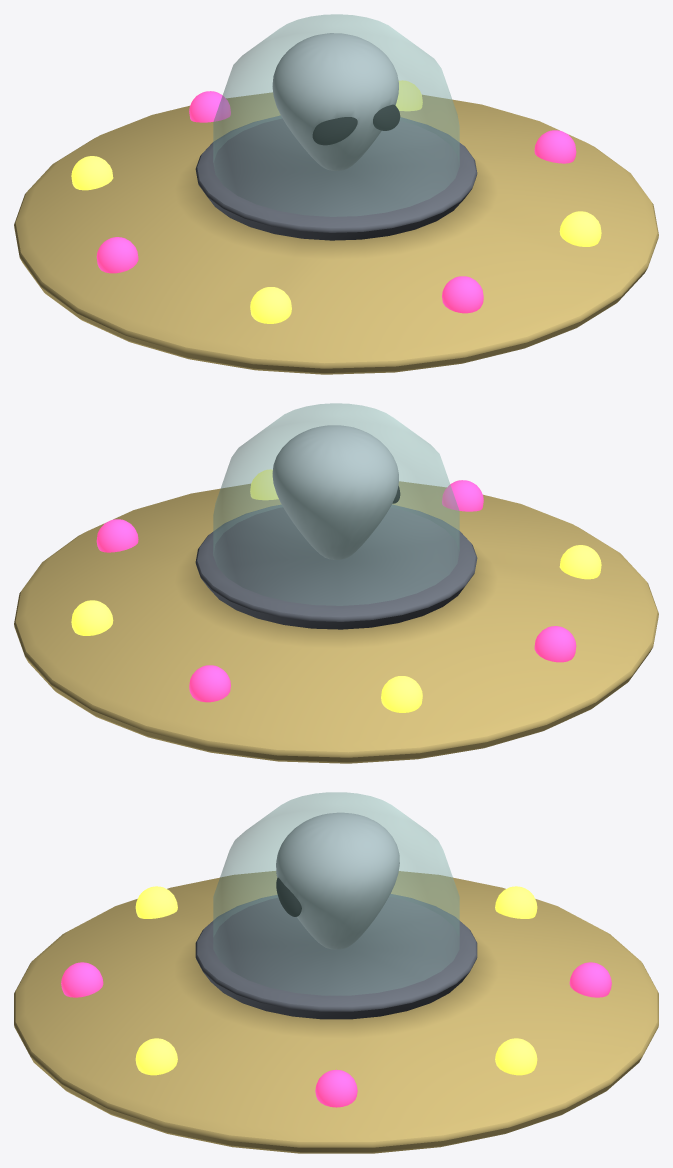
The model's file is alien_saucer.glb.
3 renders of one model, top to bottom at view 1: azimuth 30°, elevation 25°; view 2: azimuth 150°, elevation 25°; view 3: azimuth 270°, elevation 25°, orthographic.
Parts seen in each view (by area): view 1: hull, dome, deck, skull, bulb.005, bulb.004, bulb.006, bulb.003, bulb.007, bulb.002, bulb, eye (+2 smaller); view 2: hull, dome, deck, skull, bulb.007, bulb, bulb.006, bulb.001, bulb.005, bulb.002, bulb.004, bulb.003; view 3: hull, dome, deck, skull, bulb.002, bulb.001, bulb.003, bulb, bulb.004, bulb.005, bulb.007, eye.001.
Part boxes in pixels (x1,y1,x2,y2): hull: [14, 92, 658, 374]; dome: [213, 14, 459, 216]; deck: [195, 115, 477, 240]; skull: [272, 33, 398, 170]; bulb.005: [250, 287, 291, 323]; bulb.004: [442, 276, 483, 313]; bulb.006: [96, 237, 138, 273]; bulb.003: [559, 211, 601, 246]; bulb.007: [71, 156, 113, 190]; bulb.002: [534, 130, 576, 163]; bulb: [189, 91, 230, 122]; eye: [312, 117, 357, 145]; hull: [14, 481, 658, 763]; dome: [213, 403, 459, 605]; deck: [195, 504, 477, 629]; skull: [272, 425, 398, 559]; bulb.007: [381, 676, 422, 712]; bulb: [189, 665, 230, 702]; bulb.006: [534, 626, 576, 662]; bulb.001: [71, 600, 113, 635]; bulb.005: [559, 545, 601, 579]; bulb.002: [96, 519, 138, 552]; bulb.004: [442, 480, 483, 511]; bulb.003: [250, 469, 278, 500]; hull: [14, 871, 658, 1153]; dome: [213, 792, 459, 995]; deck: [195, 894, 477, 1019]; skull: [276, 812, 399, 949]; bulb.002: [315, 1069, 357, 1107]; bulb.001: [495, 1038, 537, 1075]; bulb.003: [135, 1038, 177, 1075]; bulb: [569, 962, 611, 997]; bulb.004: [61, 962, 103, 997]; bulb.005: [135, 886, 177, 918]; bulb.007: [495, 886, 537, 918]; eye.001: [276, 877, 301, 916].
Bounding box in the file's own units: 2.08 × 1.05 × 2.08.
